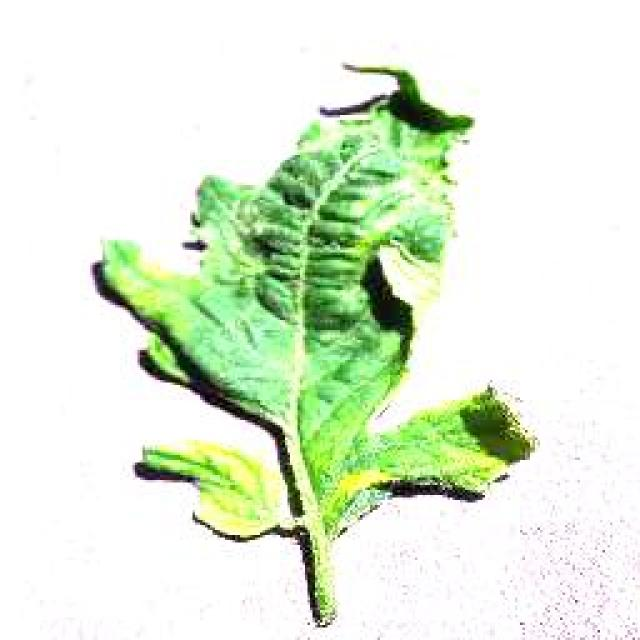Tomato___Tomato_mosaic_virus: (100, 65, 532, 622)
